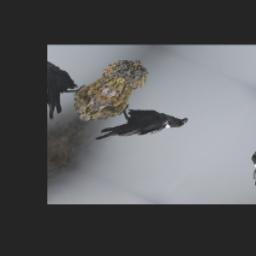Crow: (90, 94, 193, 165)
